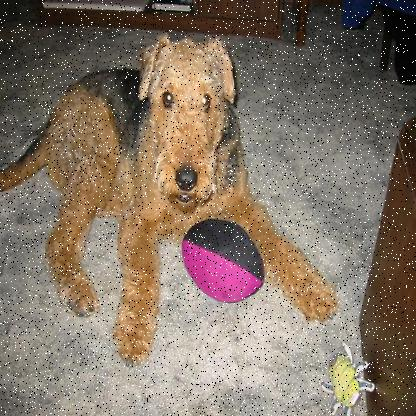dog: (11, 28, 341, 348)
